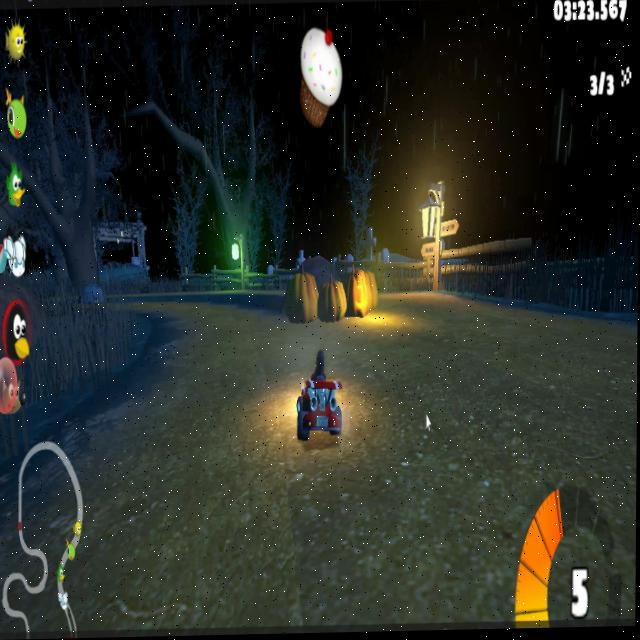obstacle: (285, 274, 377, 325)
player_kart: (292, 345, 346, 450)
track: (0, 452, 637, 630), (350, 321, 637, 452), (136, 355, 294, 458), (145, 313, 292, 359), (75, 389, 136, 456), (109, 285, 194, 319)
